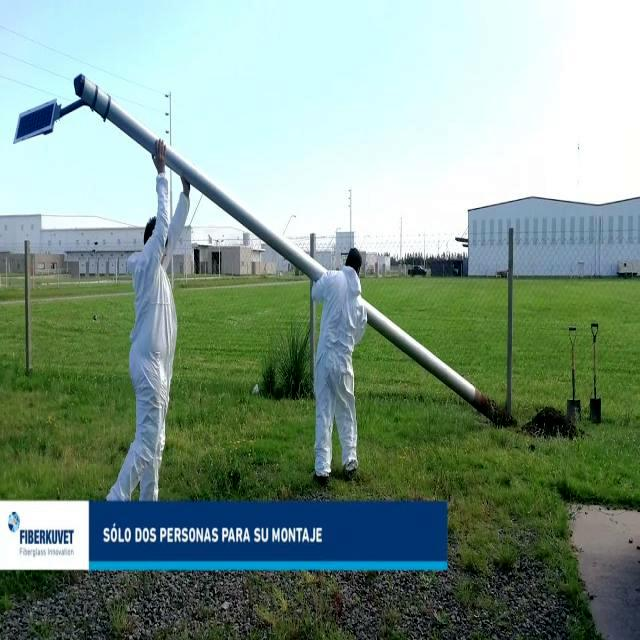Broken Pole: (14, 69, 515, 426)
